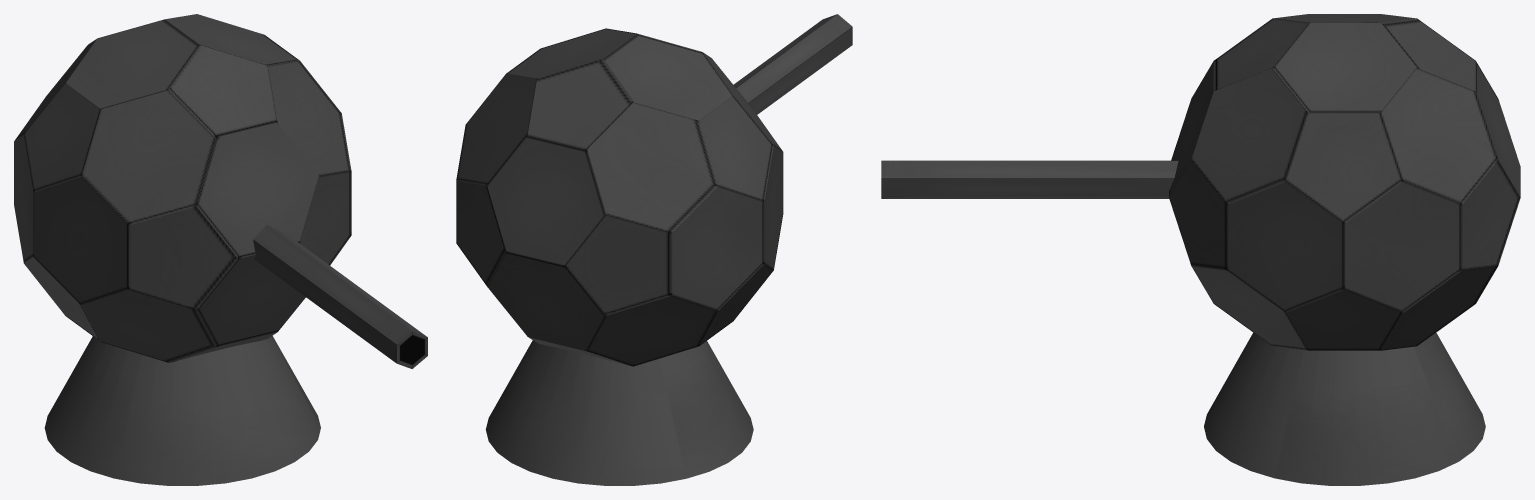
File: TurretFBX.fbx
3 views of the same model, side by side, from view 1: azimuth 30°, elevation 25°; view 2: azimuth 150°, elevation 25°; view 3: azimuth 270°, elevation 25° (orthographic). The views are drawn at different scales.
Parts seen in each view (by area): view 1: body, base, barrel; view 2: body, base, barrel; view 3: body, base, barrel.
Part boxes in pixels (box(x1,y1,x2,y2)): body: box(14, 14, 351, 362); base: box(44, 336, 320, 485); barrel: box(253, 225, 427, 368); body: box(456, 28, 783, 366); base: box(485, 340, 753, 485); barrel: box(733, 14, 852, 114); body: box(1169, 14, 1520, 350); base: box(1204, 332, 1485, 485); barrel: box(881, 160, 1178, 198).
Bounding box in the file's own units: 125 × 158 × 227.
